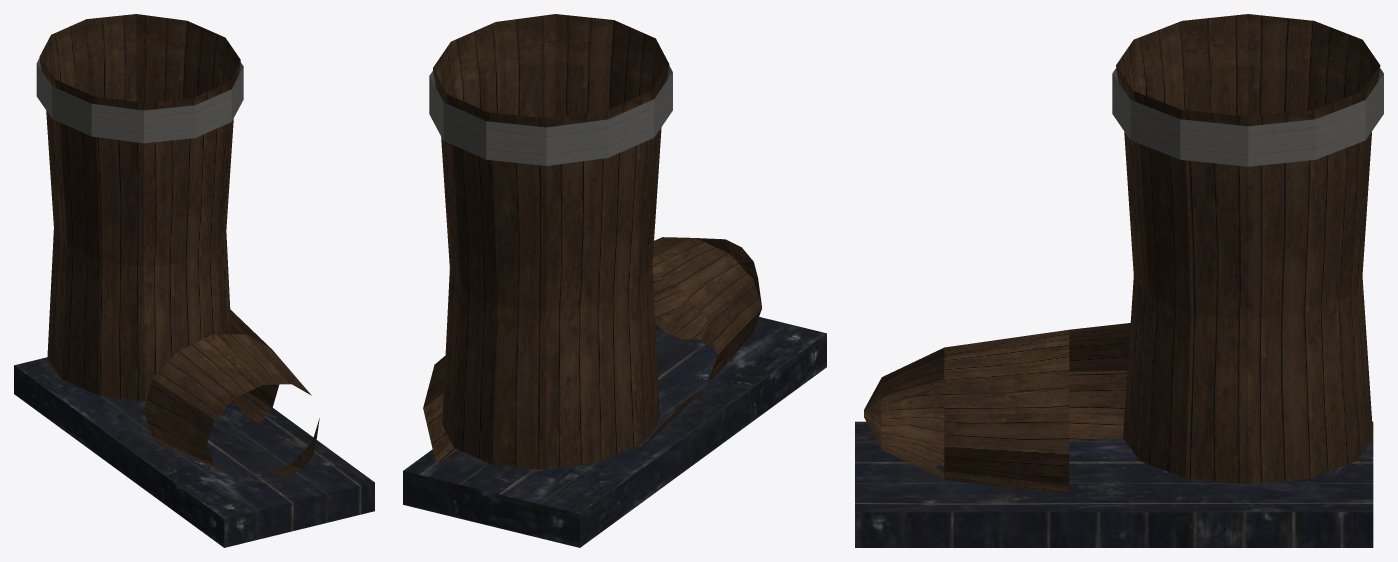
The model's file is eq_past_1_boot.glb.
3 views of the same model, side by side, from view 1: azimuth 30°, elevation 25°; view 2: azimuth 150°, elevation 25°; view 3: azimuth 270°, elevation 25° (orthographic). The views are drawn at different scales.
Parts seen in each view (by area): view 1: eq_past_1_boot; view 2: eq_past_1_boot; view 3: eq_past_1_boot.
Boxes of the visible parts, left/top/right/bottom form: eq_past_1_boot: left=14, top=14, right=374, bottom=547; eq_past_1_boot: left=403, top=14, right=826, bottom=547; eq_past_1_boot: left=855, top=14, right=1383, bottom=547.
Bounding box in the file's own units: 0.14 × 0.275 × 0.296.
3 materials, 3 textured.
